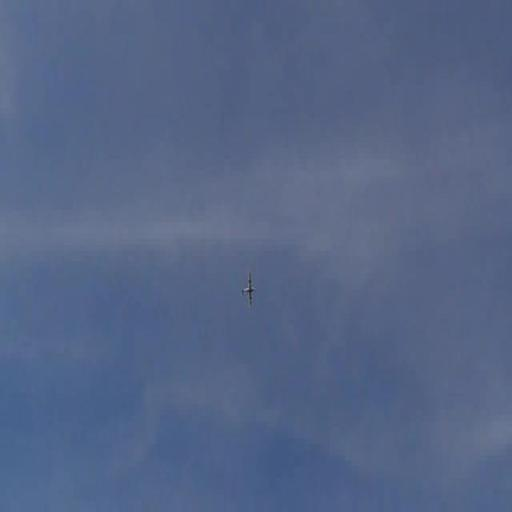uav: (240, 269, 258, 313)
